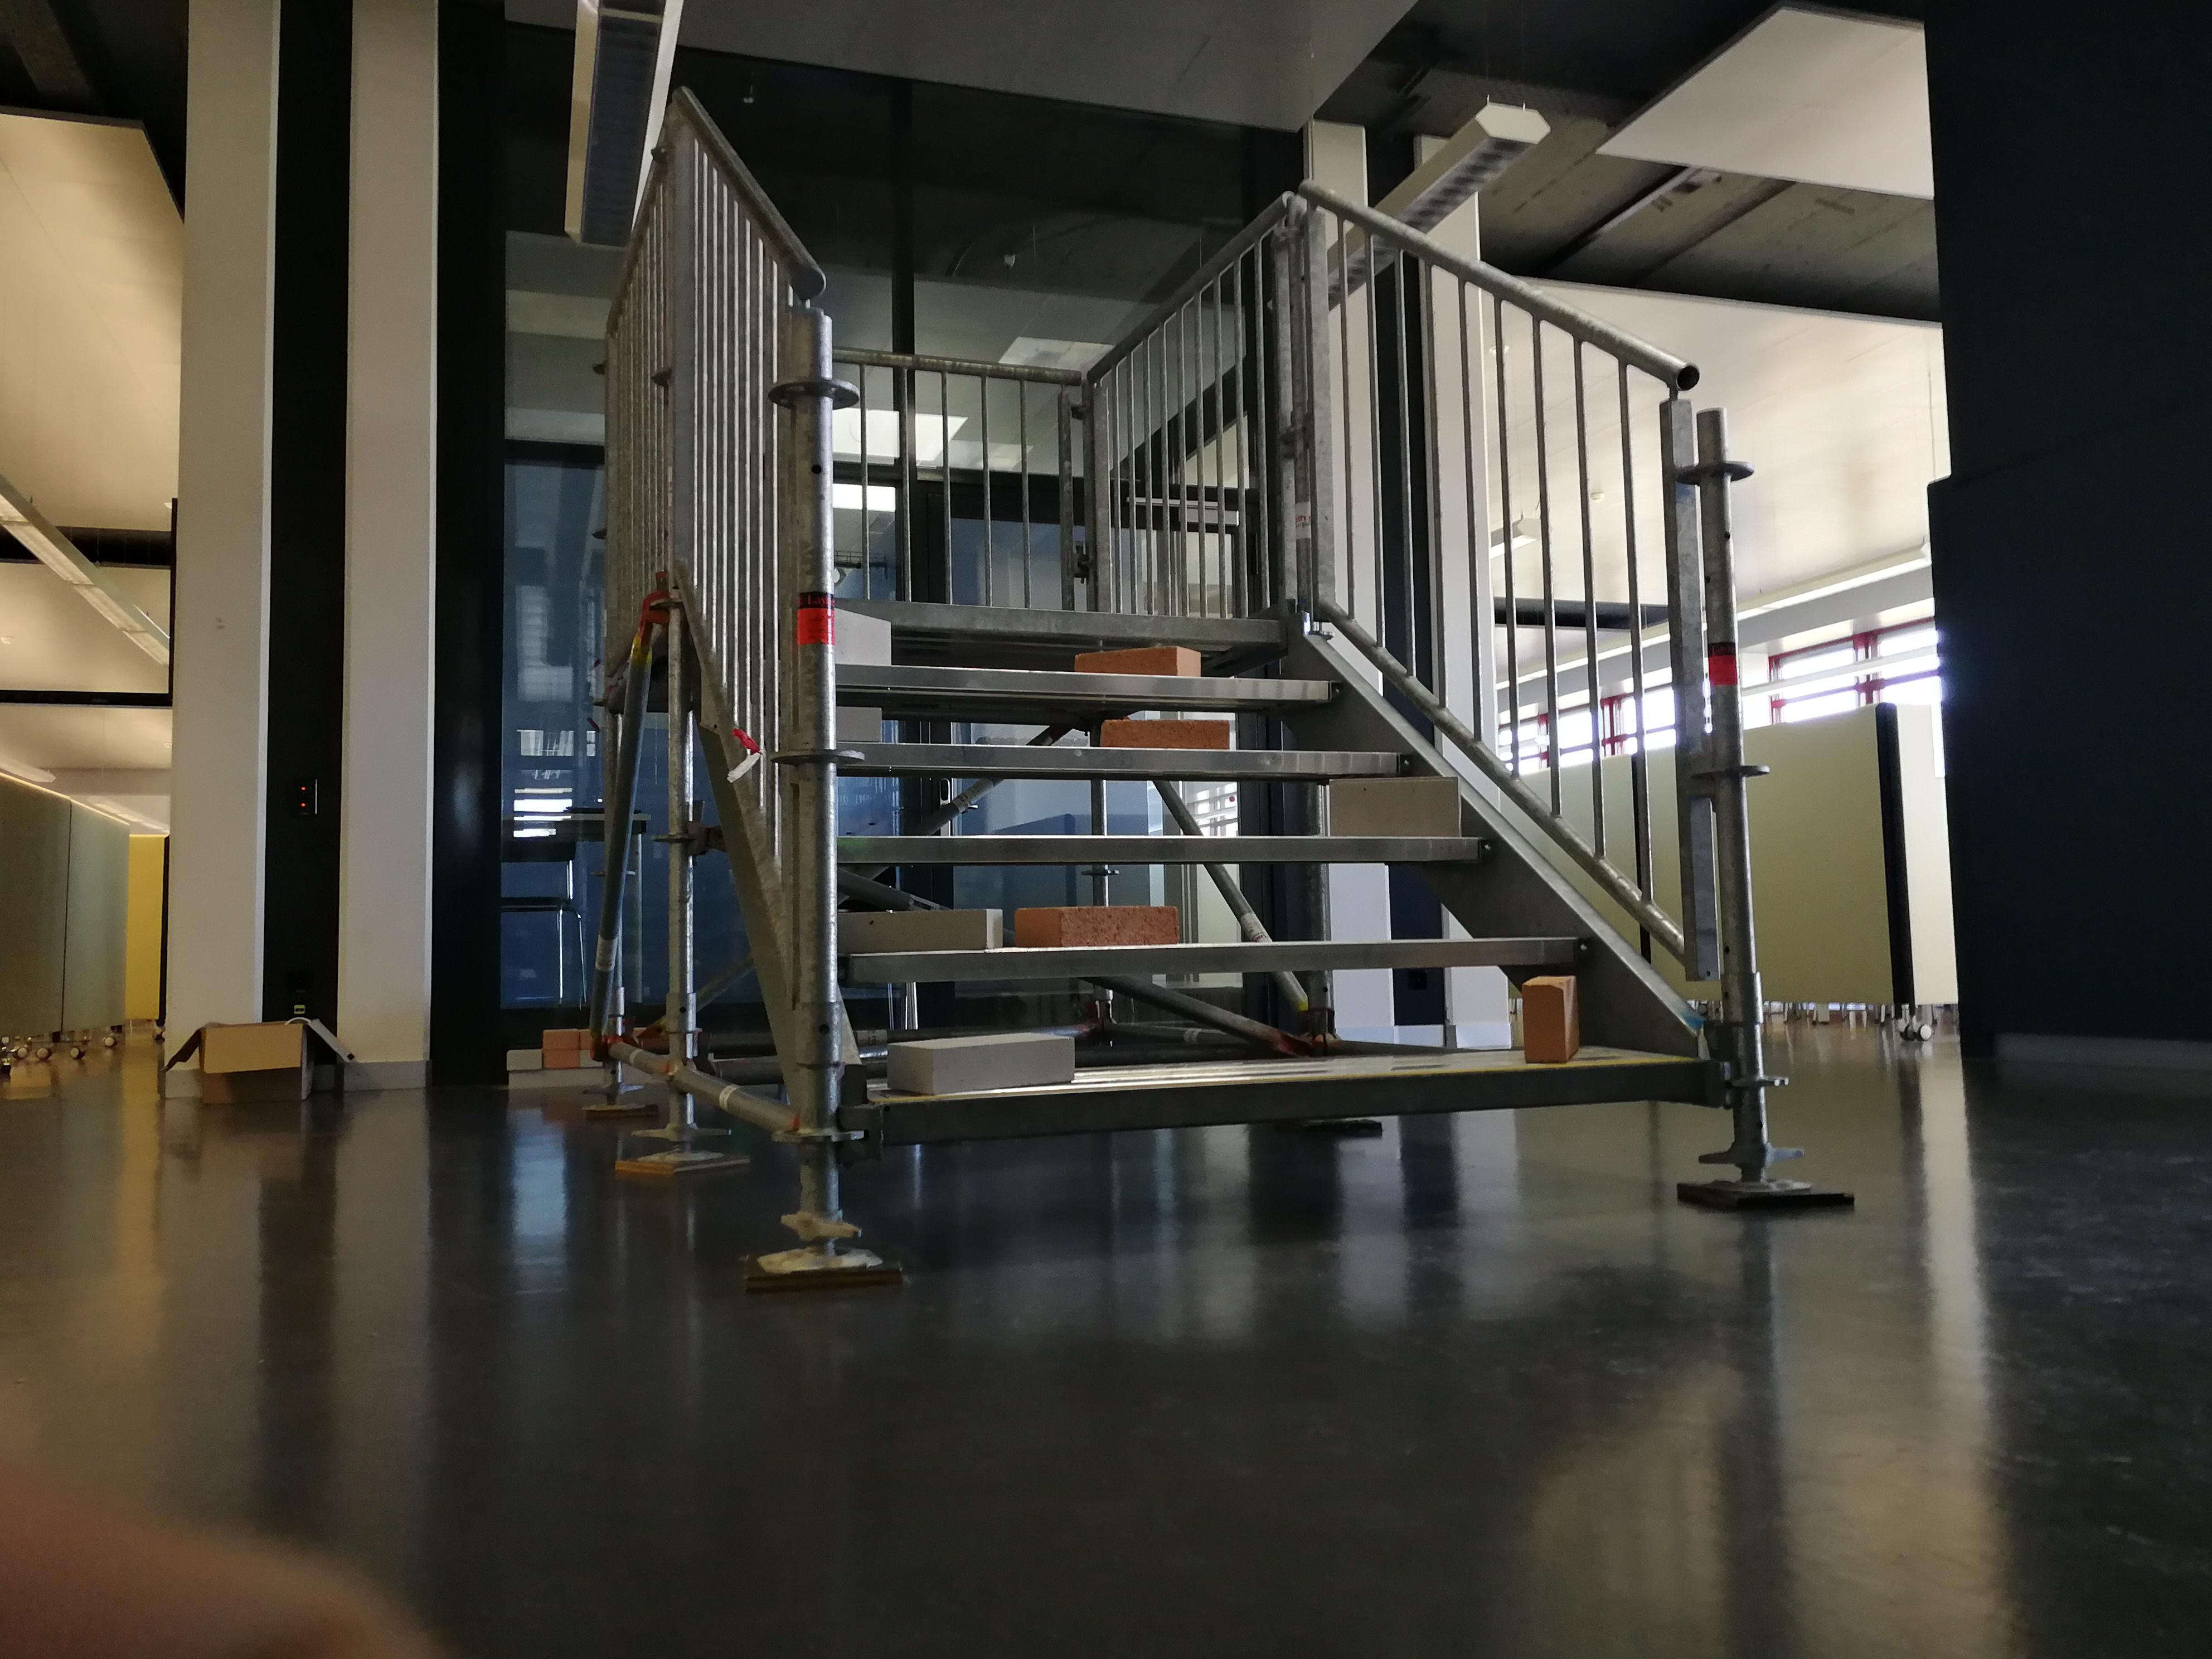brick: (890, 1035, 1069, 1093), (1331, 779, 1461, 840), (1017, 901, 1177, 948), (843, 910, 998, 946), (1524, 974, 1580, 1061), (1075, 643, 1198, 680), (1097, 716, 1230, 748), (831, 606, 888, 664), (833, 706, 880, 744)
edge: (888, 1051, 1691, 1143), (843, 945, 1594, 985), (833, 836, 1508, 864), (833, 666, 1341, 701), (831, 601, 1291, 638), (833, 744, 1404, 772)
stairs: (745, 221, 1853, 1283)
steps: (812, 586, 1707, 1173)
